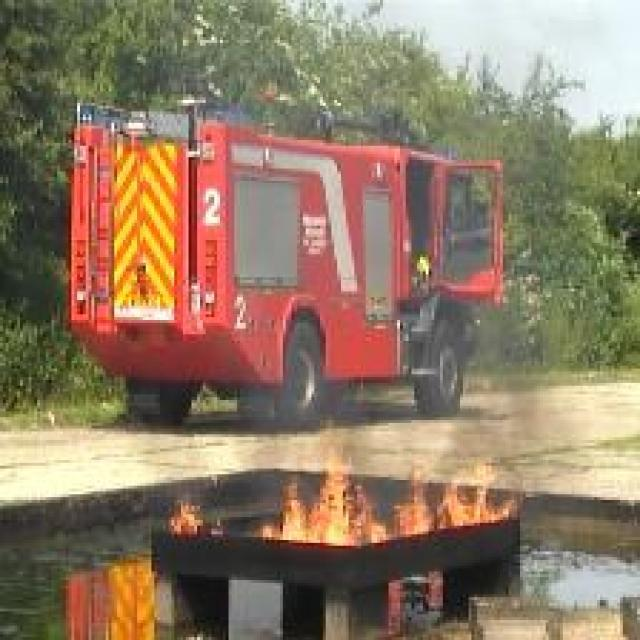Fire: (263, 422, 517, 548), (172, 498, 206, 536)
